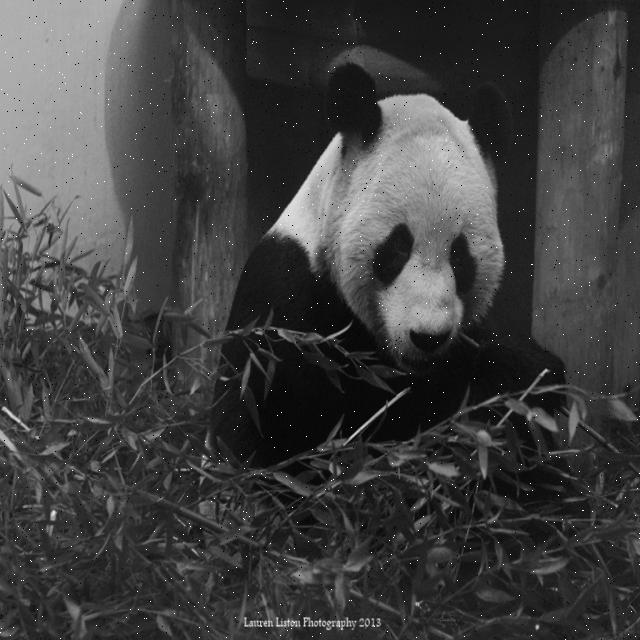panda: (203, 59, 572, 565)
